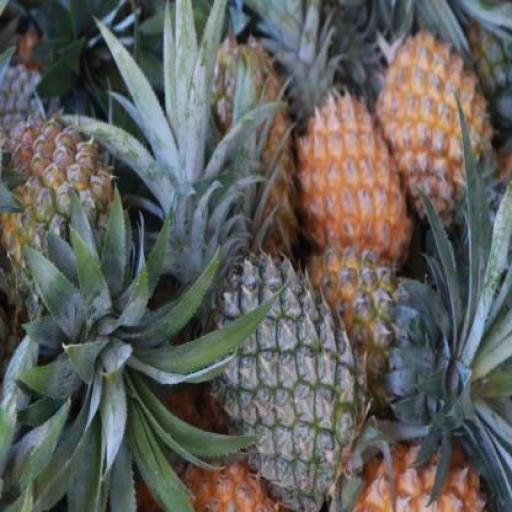------------------------------: (0, 114, 128, 328)
Pineapple - v8 v1: (378, 32, 490, 239), (297, 92, 411, 274)
